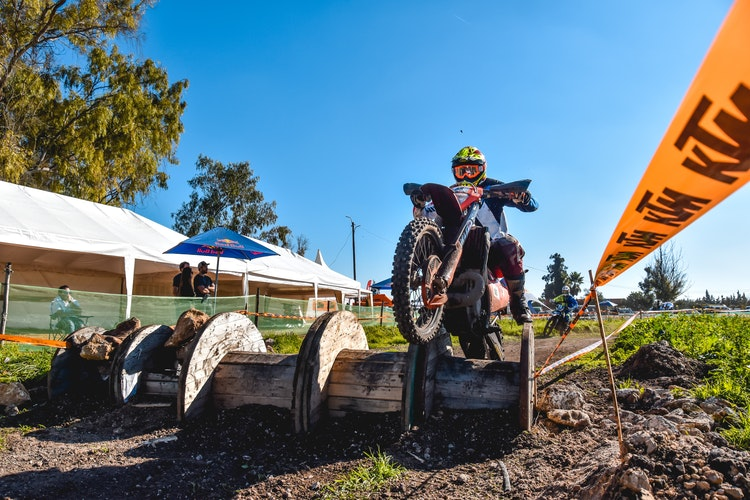helmet: (450, 143, 486, 184)
